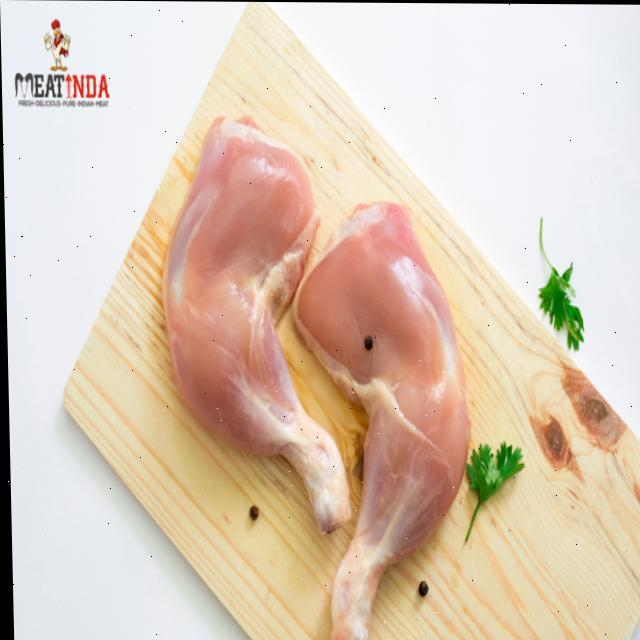quater: (145, 91, 353, 528), (295, 187, 483, 640)
